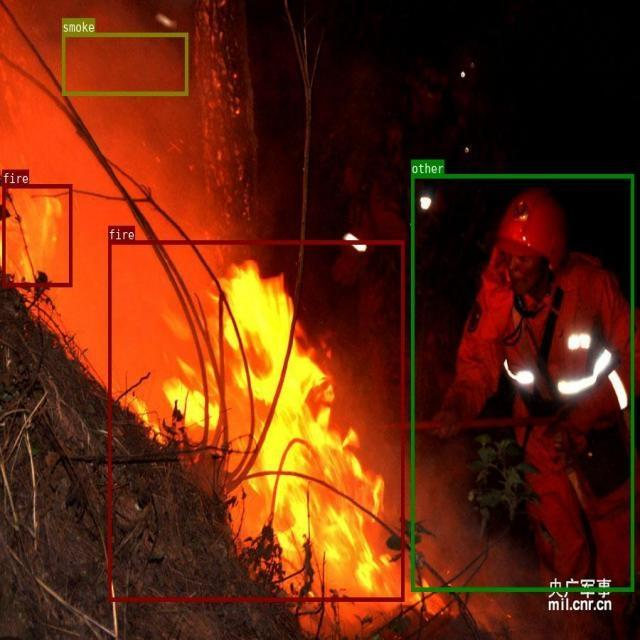fire: (108, 240, 403, 600), (2, 184, 72, 286)
smoke: (62, 32, 188, 95)
